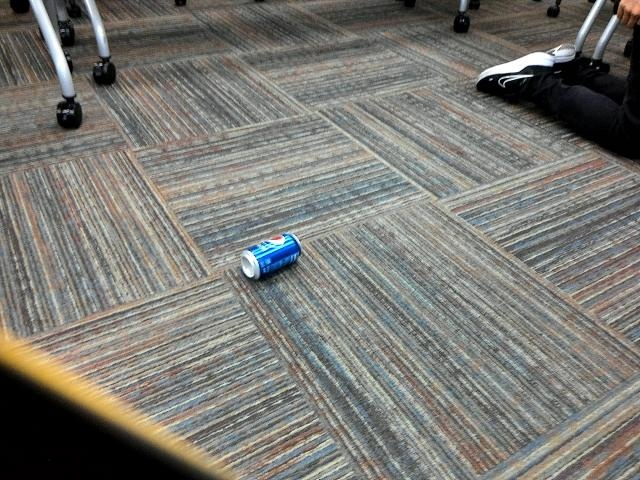can: (230, 228, 306, 286)
